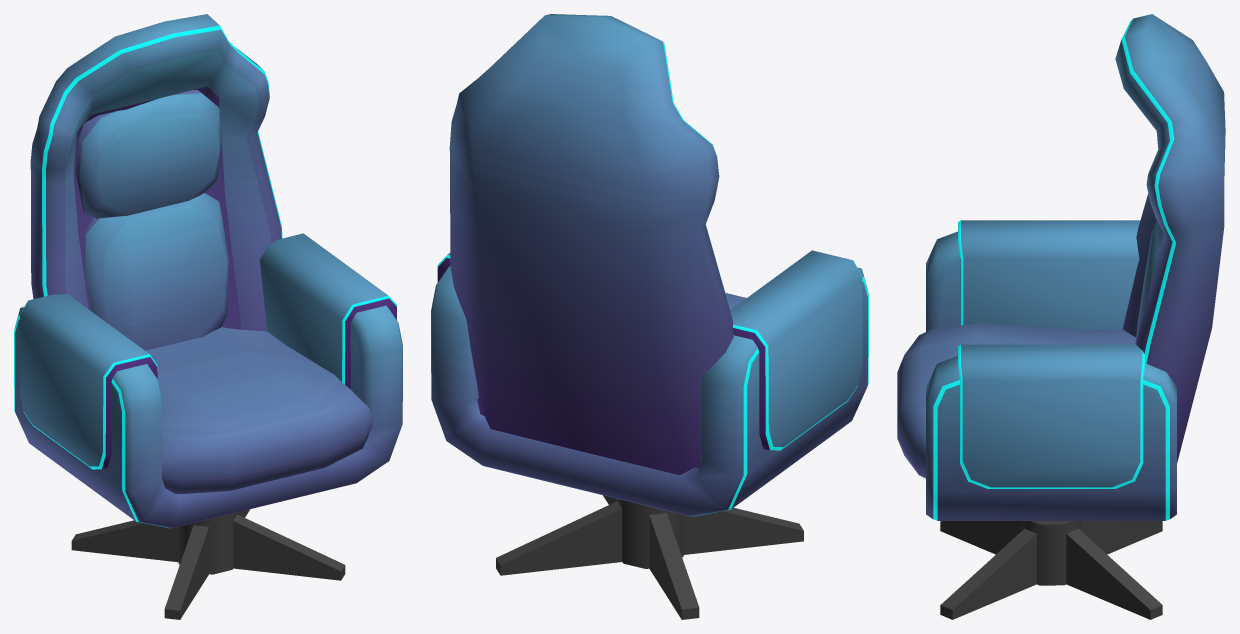
The model's file is gamer_chair_blue.gltf.
The picture shows the model from 3 angles, left to right: view 1: azimuth 30°, elevation 25°; view 2: azimuth 150°, elevation 25°; view 3: azimuth 270°, elevation 25°; orthographic projection. The views are drawn at different scales.
Visible parts, largest first — view 1: gamer_chair_blue; view 2: gamer_chair_blue; view 3: gamer_chair_blue.
Boxes of the visible parts, x1,y1,x2,y2 form: gamer_chair_blue: (14, 14, 402, 619); gamer_chair_blue: (431, 14, 868, 619); gamer_chair_blue: (897, 14, 1225, 619).
Size of what is drawn, in the model's own units: 0.9578 by 1.58 by 0.8674.
Materials: 3 (3 with a texture image).
